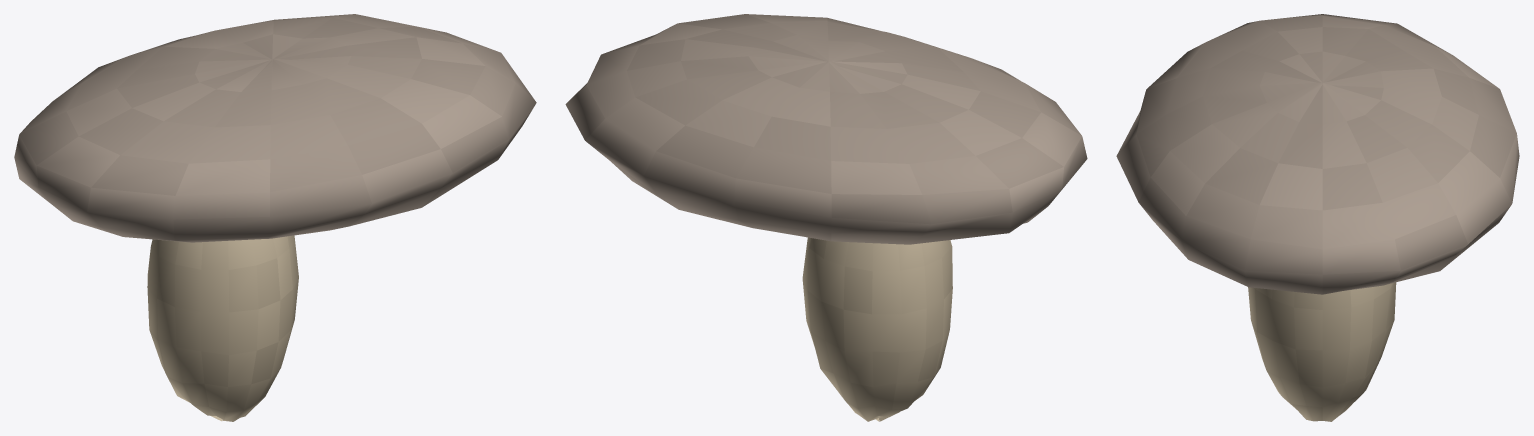
Rendered from OysterMushroom.glb.
3 views of the same model, side by side, from view 1: azimuth 30°, elevation 25°; view 2: azimuth 150°, elevation 25°; view 3: azimuth 270°, elevation 25° (orthographic). The views are drawn at different scales.
Visible parts, largest first — view 1: OysterMushroom; view 2: OysterMushroom; view 3: OysterMushroom.
Part boxes in pixels (x1,y1,x2,y2): OysterMushroom: [14, 14, 536, 421]; OysterMushroom: [565, 14, 1087, 421]; OysterMushroom: [1116, 14, 1519, 421].
Size of what is drawn, in the model's own units: 0.0844 by 0.0601 by 0.0605.
